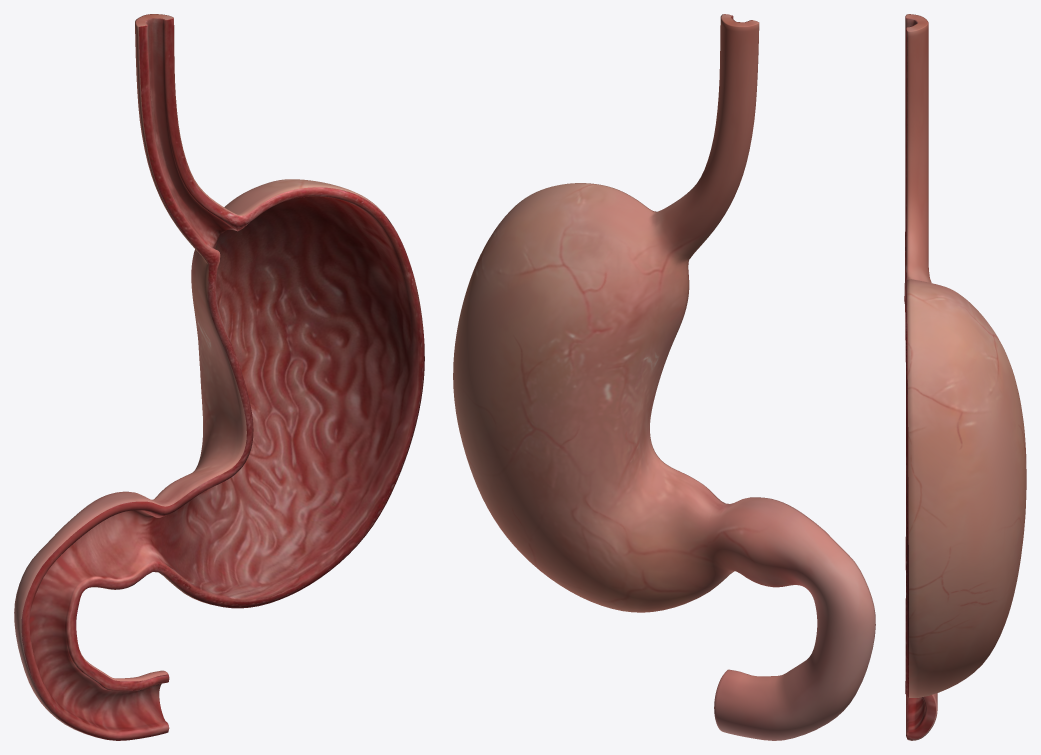
File: wei_pou.fbx
3 views of the same model, side by side, from view 1: azimuth 30°, elevation 25°; view 2: azimuth 150°, elevation 25°; view 3: azimuth 270°, elevation 25° (orthographic).
Visible parts, largest first — view 1: wei33333:wei22222:polySurface1; view 2: wei33333:wei22222:polySurface1; view 3: wei33333:wei22222:polySurface1.
Part boxes in pixels (left/top/right/bottom): wei33333:wei22222:polySurface1: left=14, top=14, right=424, bottom=740; wei33333:wei22222:polySurface1: left=453, top=14, right=875, bottom=740; wei33333:wei22222:polySurface1: left=904, top=14, right=1026, bottom=740.
Bounding box in the file's own units: 14.09 × 23.71 × 3.68.
1 material, 1 textured.
